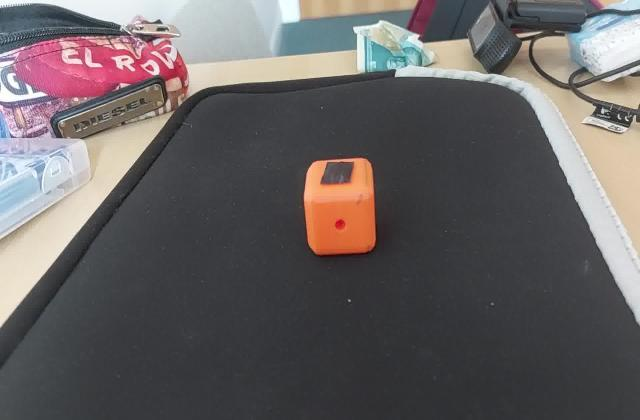black: (317, 158, 362, 186)
cube: (304, 154, 379, 257)
